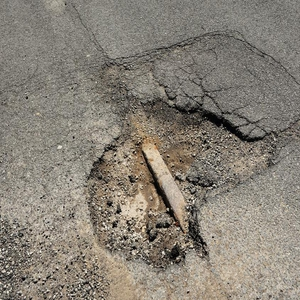pothole: (81, 96, 279, 276)
